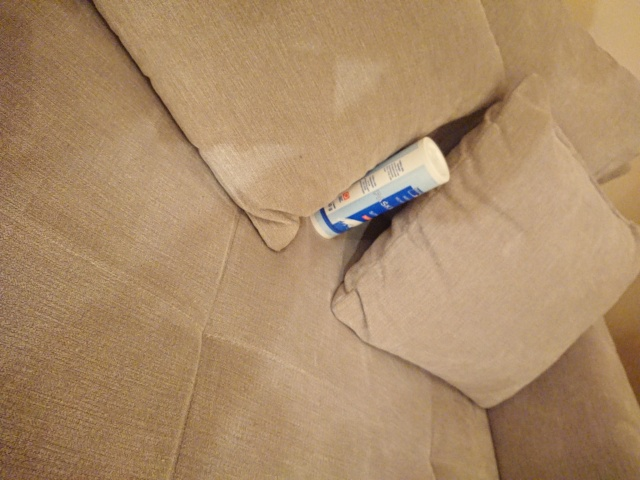Solana Pag Fine Sea Salt 250g: (306, 131, 454, 242)
